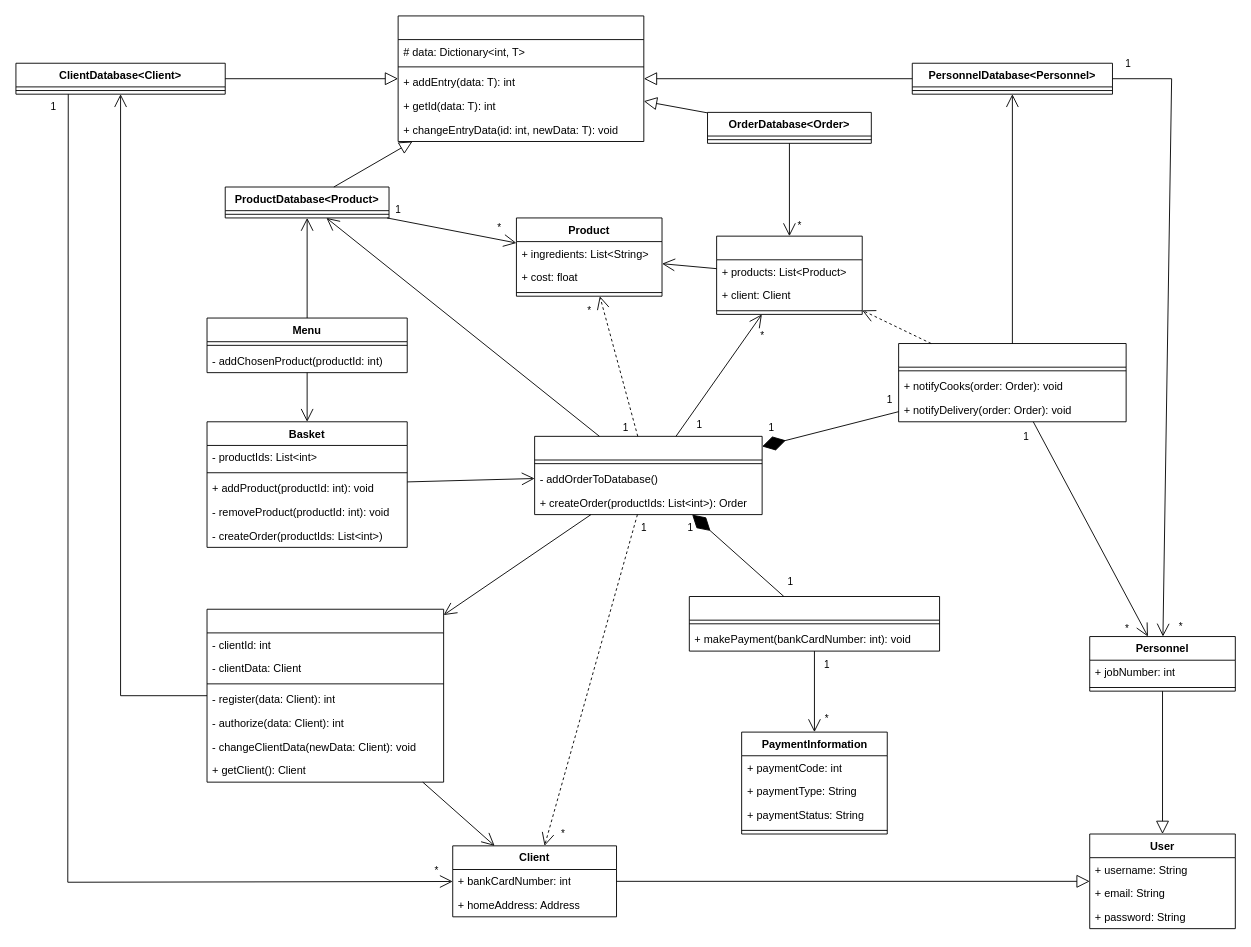
This 1251x947 diagram has some shape labels left out. Here are the shapes that lost their labels. From the top down, the box of each, then its label:
(397, 15, 644, 142): Database<T>
(716, 235, 862, 314): Order
(898, 343, 1126, 422): PersonnelNotifier
(534, 435, 762, 515): OrderManager
(688, 596, 940, 651): PaymentManager
(206, 608, 444, 782): ClientAccount
